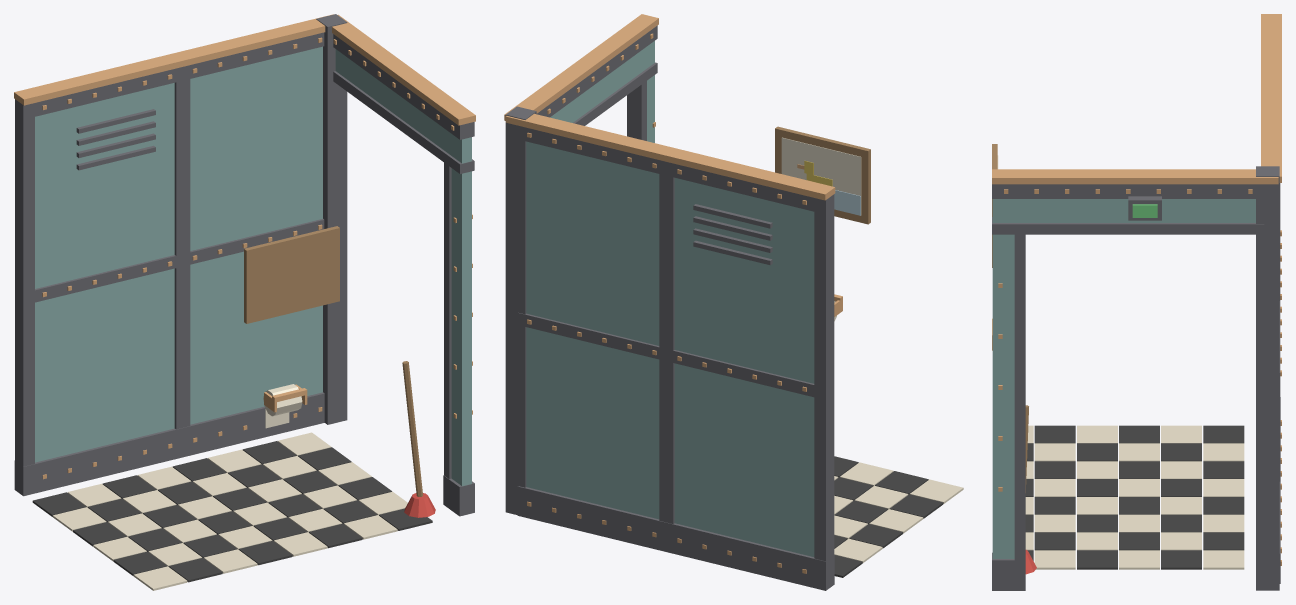
Rendered from toilet_cabin.glb.
3 views of the same model, side by side, from view 1: azimuth 30°, elevation 25°; view 2: azimuth 150°, elevation 25°; view 3: azimuth 270°, elevation 25° (orthographic). The views are drawn at different scales.
Visible parts, largest first — view 1: ToiletCabin; view 2: ToiletCabin; view 3: ToiletCabin.
Boxes of the visible parts, <box> form: ToiletCabin: <box>14,14,475,590</box>; ToiletCabin: <box>504,14,963,590</box>; ToiletCabin: <box>992,14,1281,590</box>.
Bounding box in the file's own units: 1.42 × 1.63 × 1.03.
